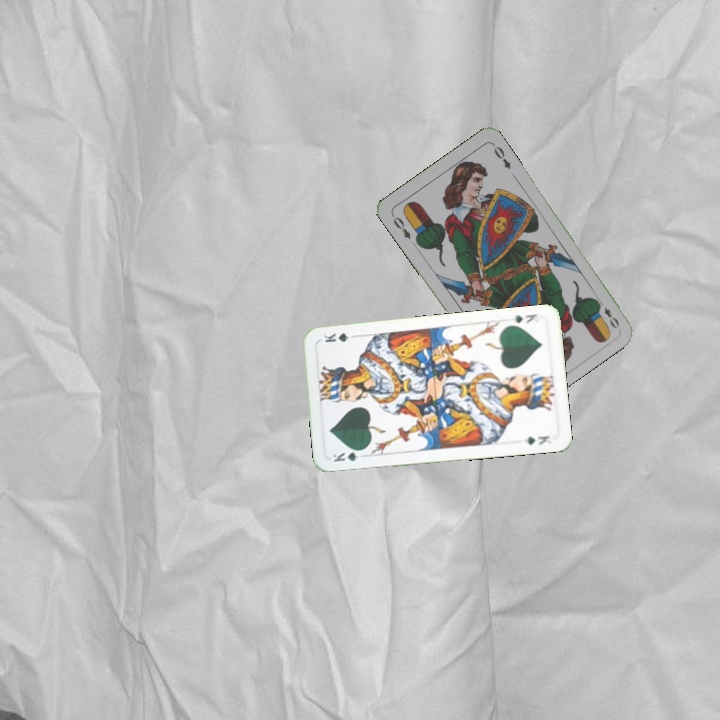EO: (593, 295, 622, 331), (388, 210, 413, 242)
GK: (329, 446, 368, 464), (508, 310, 539, 326)
